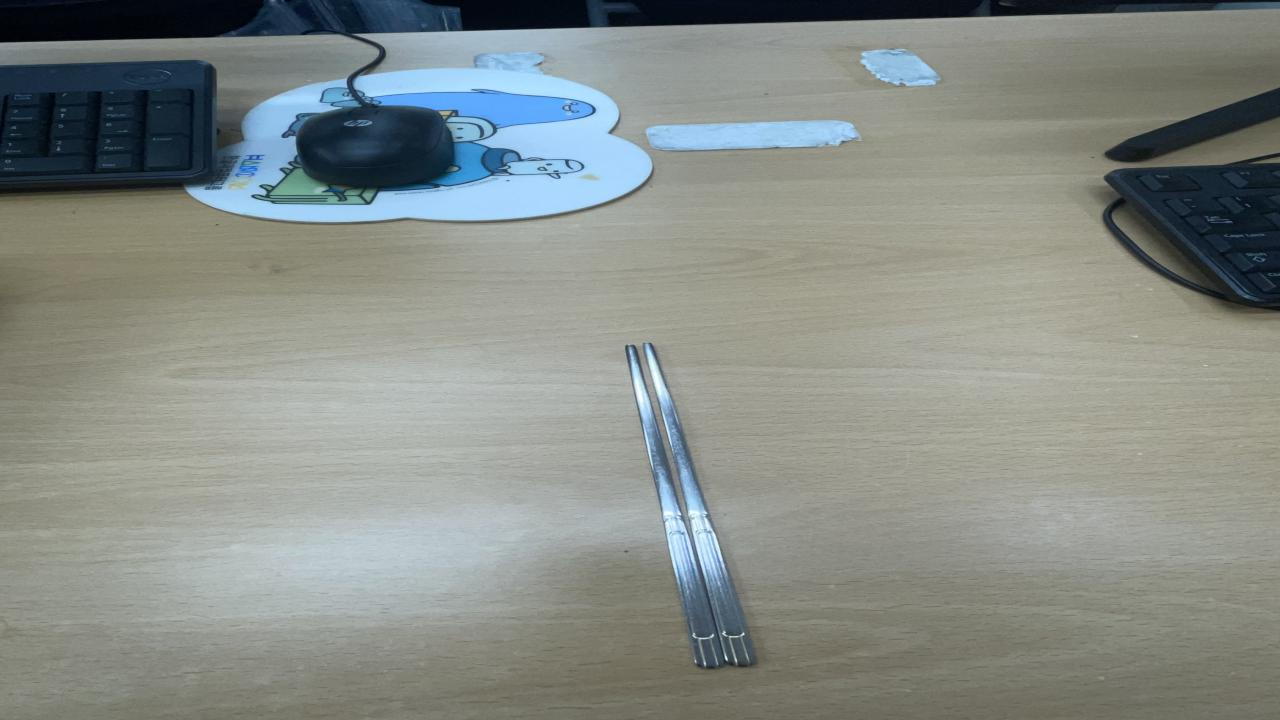chopstick: (623, 341, 763, 675)
